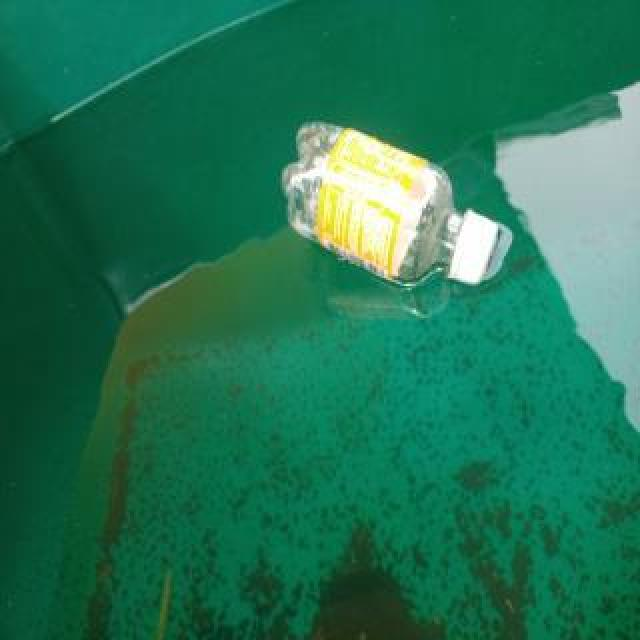bottle: (280, 116, 506, 292)
